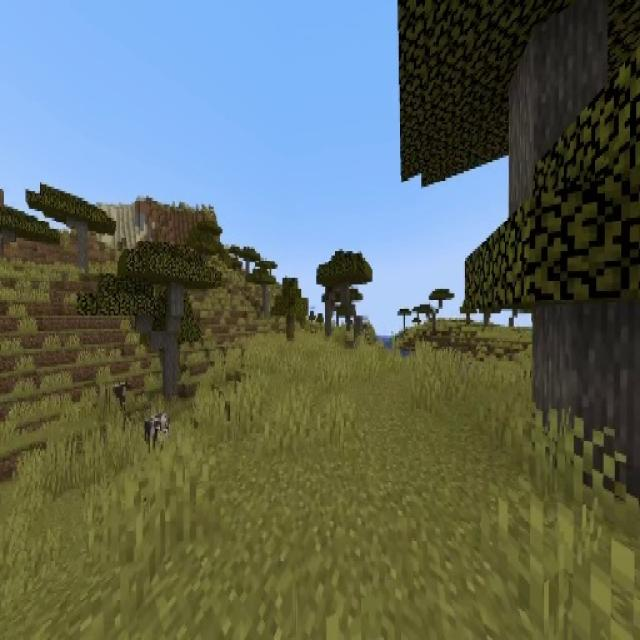acacia: (78, 240, 220, 398), (25, 182, 116, 274), (315, 250, 373, 344)
acacia_log: (536, 298, 639, 505), (513, 8, 605, 198), (163, 331, 176, 394), (169, 285, 183, 331), (78, 219, 88, 272), (137, 314, 150, 332), (150, 331, 163, 349)
oak: (272, 278, 309, 340)
oak_log: (286, 316, 294, 340)
